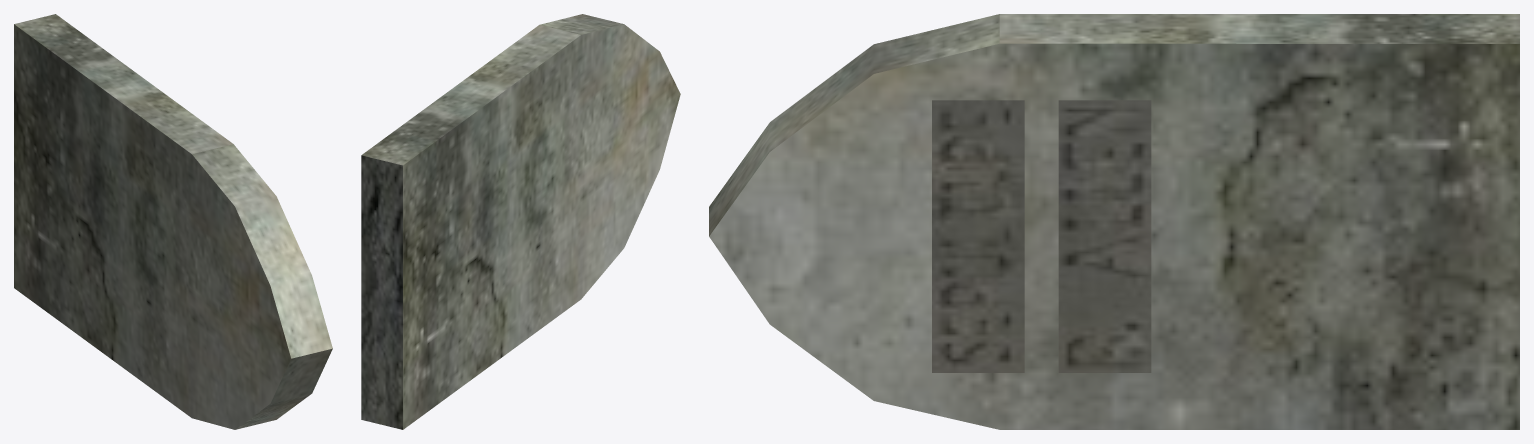
File: prop_tombstone1.glb
3 views of the same model, side by side, from view 1: azimuth 30°, elevation 25°; view 2: azimuth 150°, elevation 25°; view 3: azimuth 270°, elevation 25° (orthographic). The views are drawn at different scales.
Bounding box in the file's own units: 3.99 × 23.99 × 45.64.
Materials: 1 (1 with a texture image).
